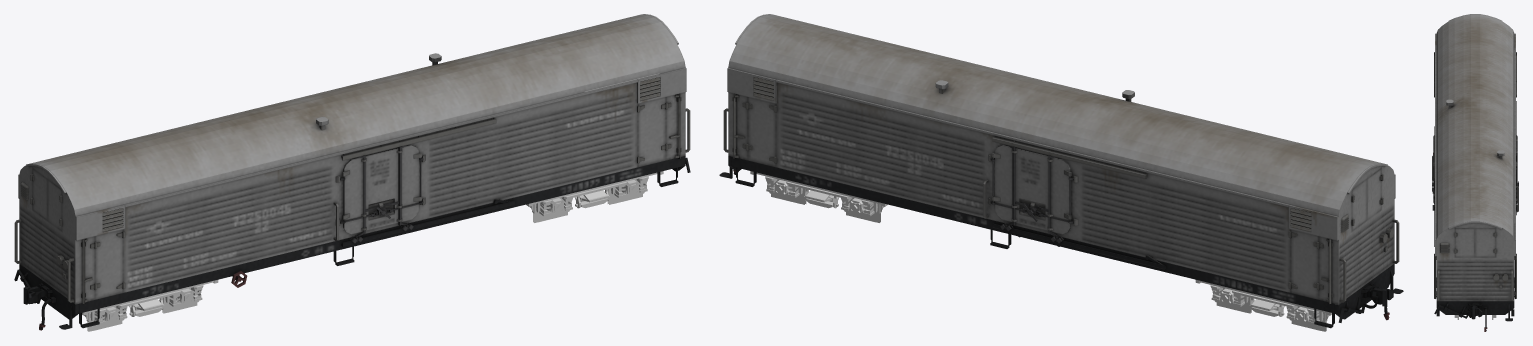
Rendered from mvp_ir_thermos.obj.
The picture shows the model from 3 angles, left to right: view 1: azimuth 30°, elevation 25°; view 2: azimuth 150°, elevation 25°; view 3: azimuth 270°, elevation 25°; orthographic projection. The views are drawn at different scales.
Parts seen in each view (by area): view 1: FRAME_thermos, BOGEY_REAR_thermos, BOGEY_FRONT_thermos; view 2: FRAME_thermos, BOGEY_REAR_thermos, BOGEY_FRONT_thermos; view 3: FRAME_thermos.
Part boxes in pixels (x1,y1,x2,y2): FRAME_thermos: (14, 14, 690, 330); BOGEY_REAR_thermos: (526, 171, 663, 217); BOGEY_FRONT_thermos: (82, 280, 218, 325); FRAME_thermos: (719, 14, 1403, 328); BOGEY_REAR_thermos: (750, 171, 887, 217); BOGEY_FRONT_thermos: (1195, 280, 1331, 325); FRAME_thermos: (1432, 14, 1518, 331).
Size of the model in its own units: 21.88 by 5.13 by 3.63.
